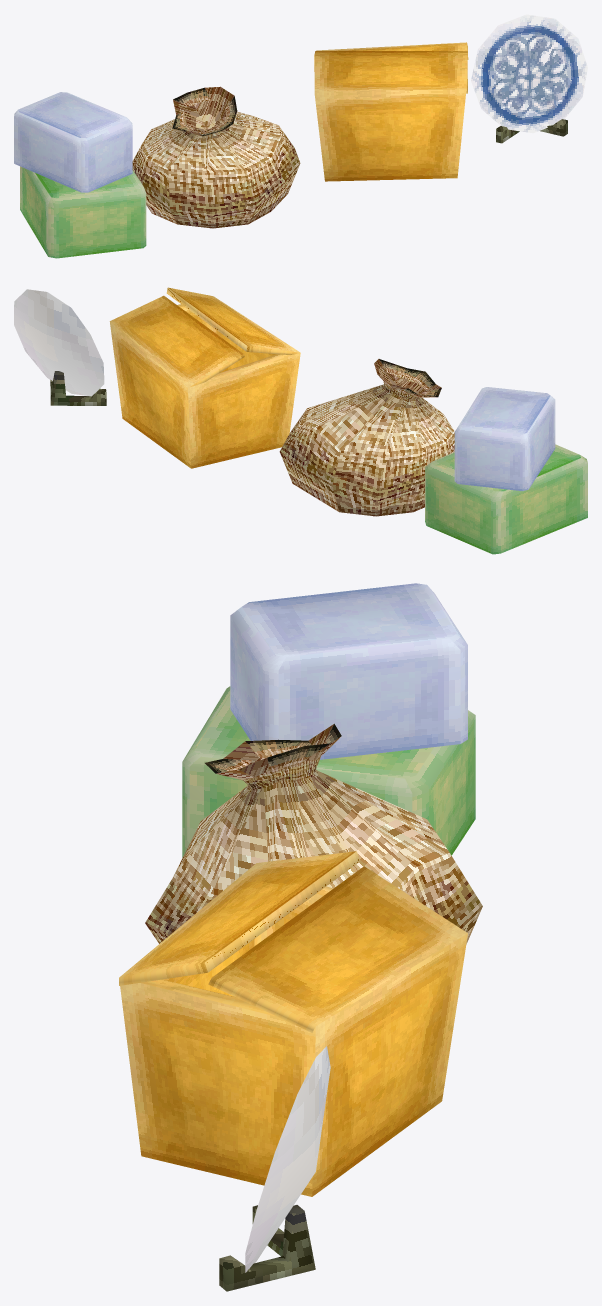
The model's file is a_groc_2.glb.
The picture shows the model from 3 angles, top to bottom: view 1: azimuth 30°, elevation 25°; view 2: azimuth 150°, elevation 25°; view 3: azimuth 270°, elevation 25°; orthographic projection. The views are drawn at different scales.
Visible parts, largest first — view 1: a_groc_2; view 2: a_groc_2; view 3: a_groc_2.
Part boxes in pixels (bbox=[...]): a_groc_2: bbox=[14, 14, 587, 258]; a_groc_2: bbox=[14, 287, 587, 554]; a_groc_2: bbox=[119, 583, 482, 1291].
Bounding box in the file's own units: 338 × 67 × 98.
6 materials, 6 textured.
